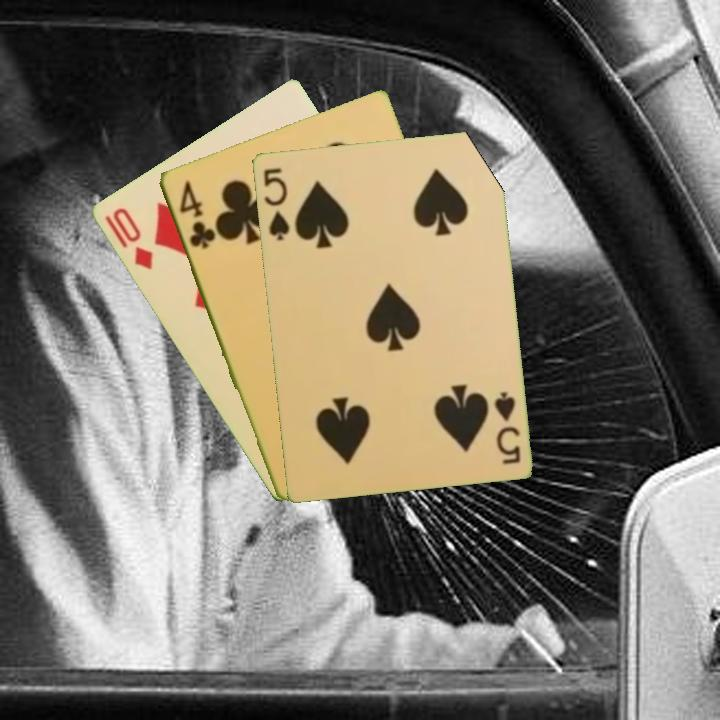10d: (100, 203, 156, 273)
4c: (175, 177, 218, 252)
5s: (490, 387, 523, 467), (259, 164, 292, 243)
